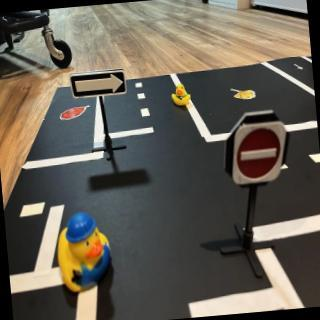duck_regular: (171, 84, 193, 109)
duck_specialty: (53, 209, 117, 299)
sign_noentry: (229, 122, 293, 187)
sign_oneway_right: (71, 70, 129, 101)
